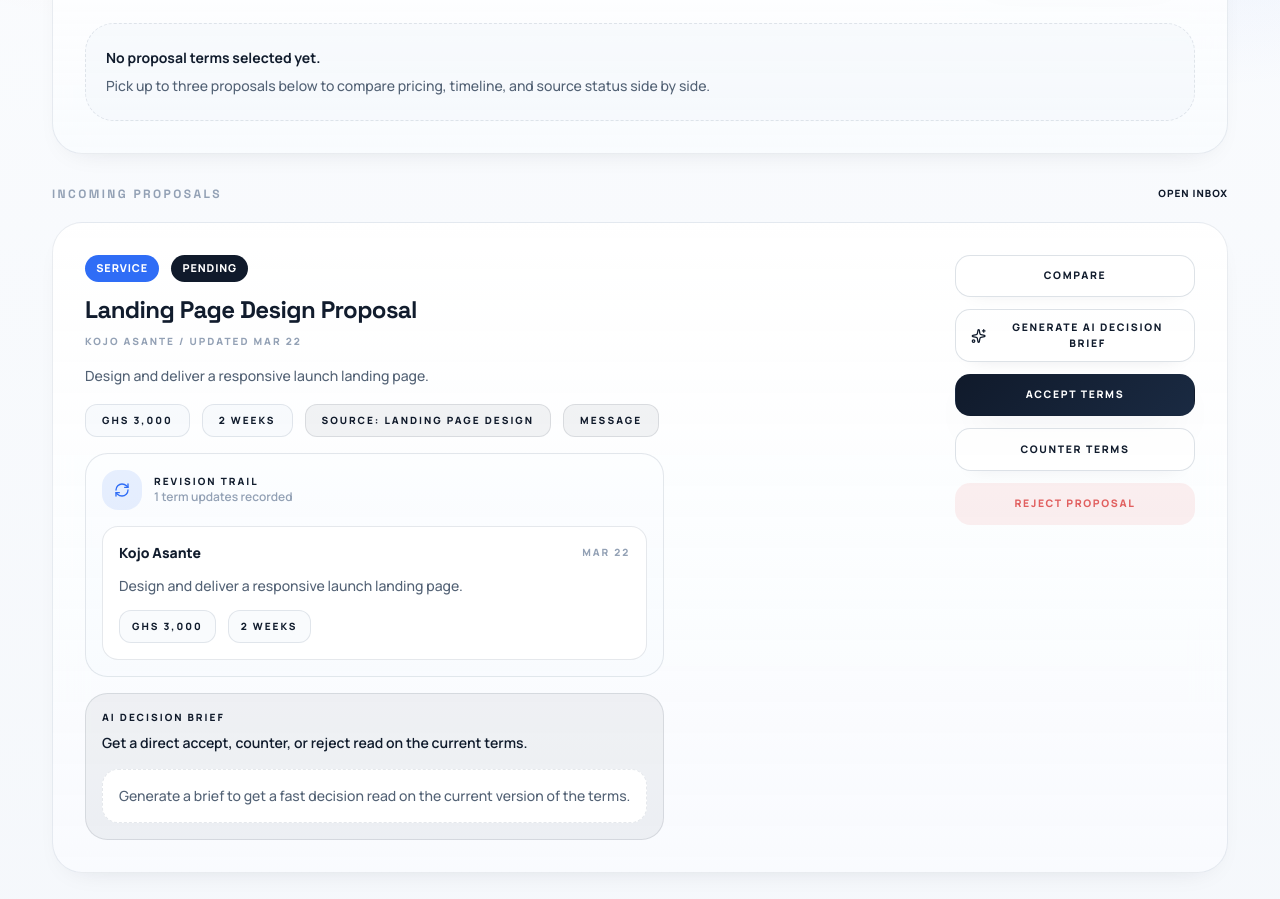
Test case: Proposals negotiation flow › submits a counter proposal and refreshes the revision trail
(page scrolled)
Expected: the heading "Landing Page Design Proposal" is shown, left=85, top=294, right=417, bottom=325
Click the button "Counter Terms": click(1075, 449) left=955, top=428, right=1195, bottom=471
(page scrolled)
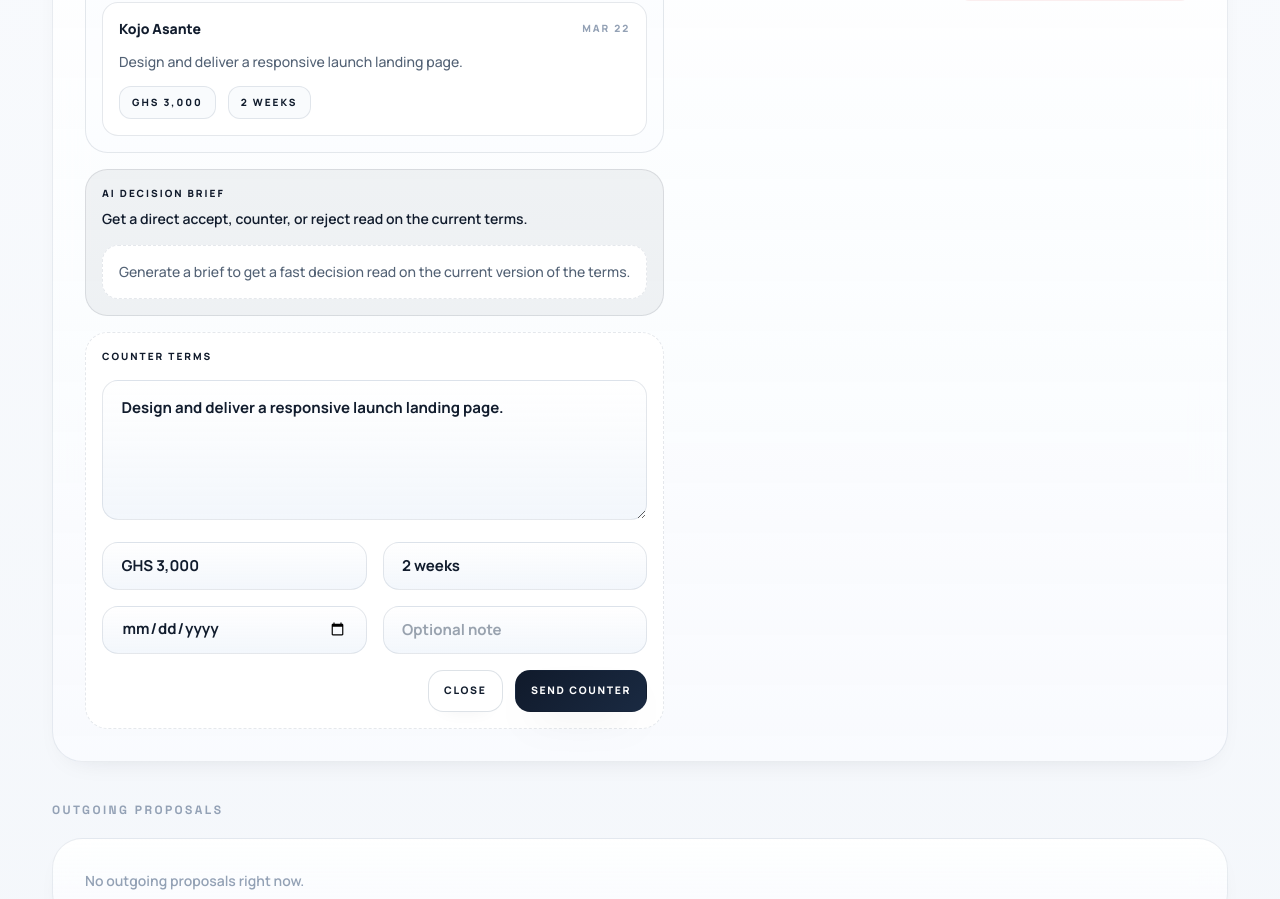
Replace the text in the text box with placeholder "Refine the scope and terms." with "Scope includes launch page, mobile states, and export-ready assets.": (375, 450) left=102, top=380, right=647, bottom=520
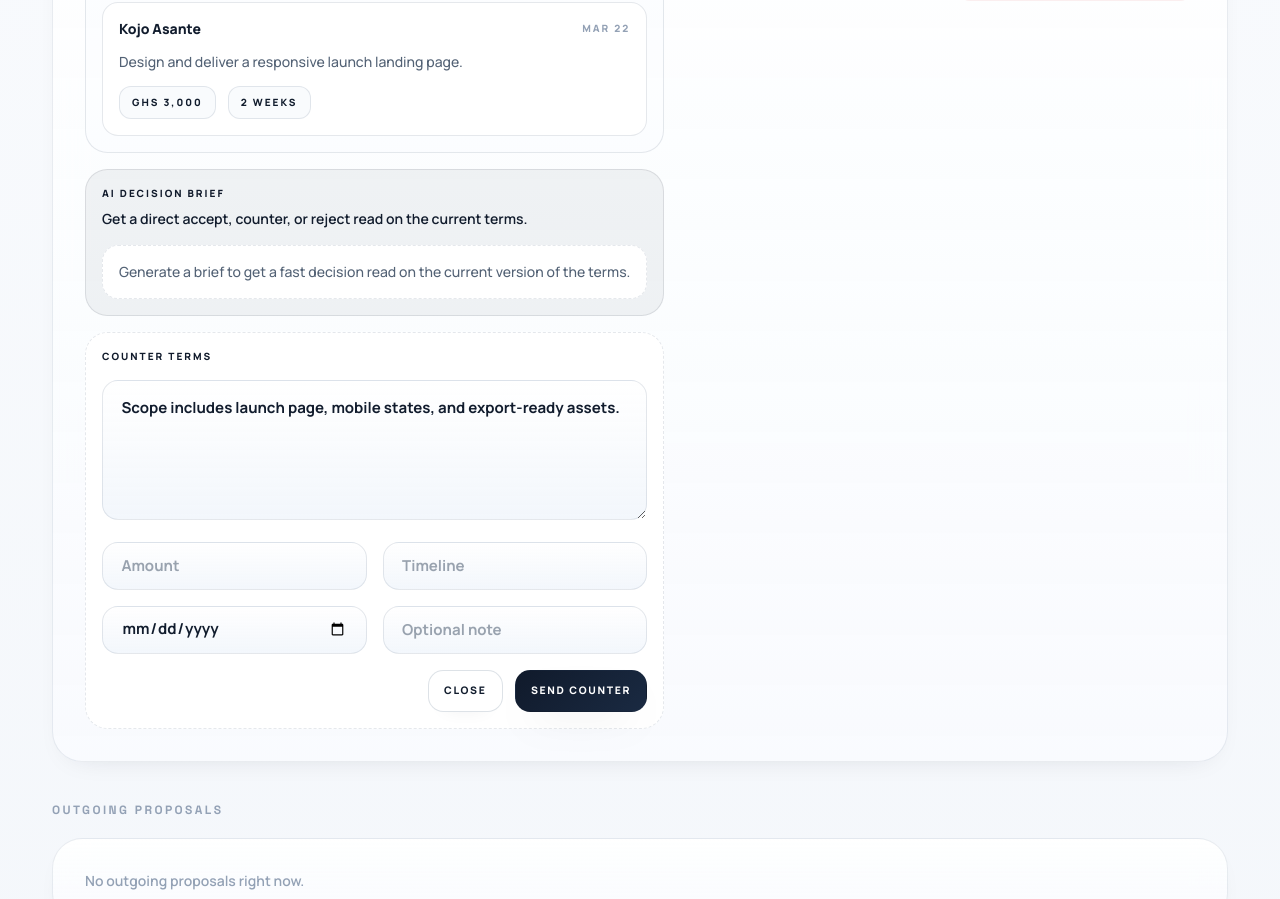
In the field with placeholder "Amount": (234, 566) left=102, top=542, right=367, bottom=590, type "GHS 2,800"
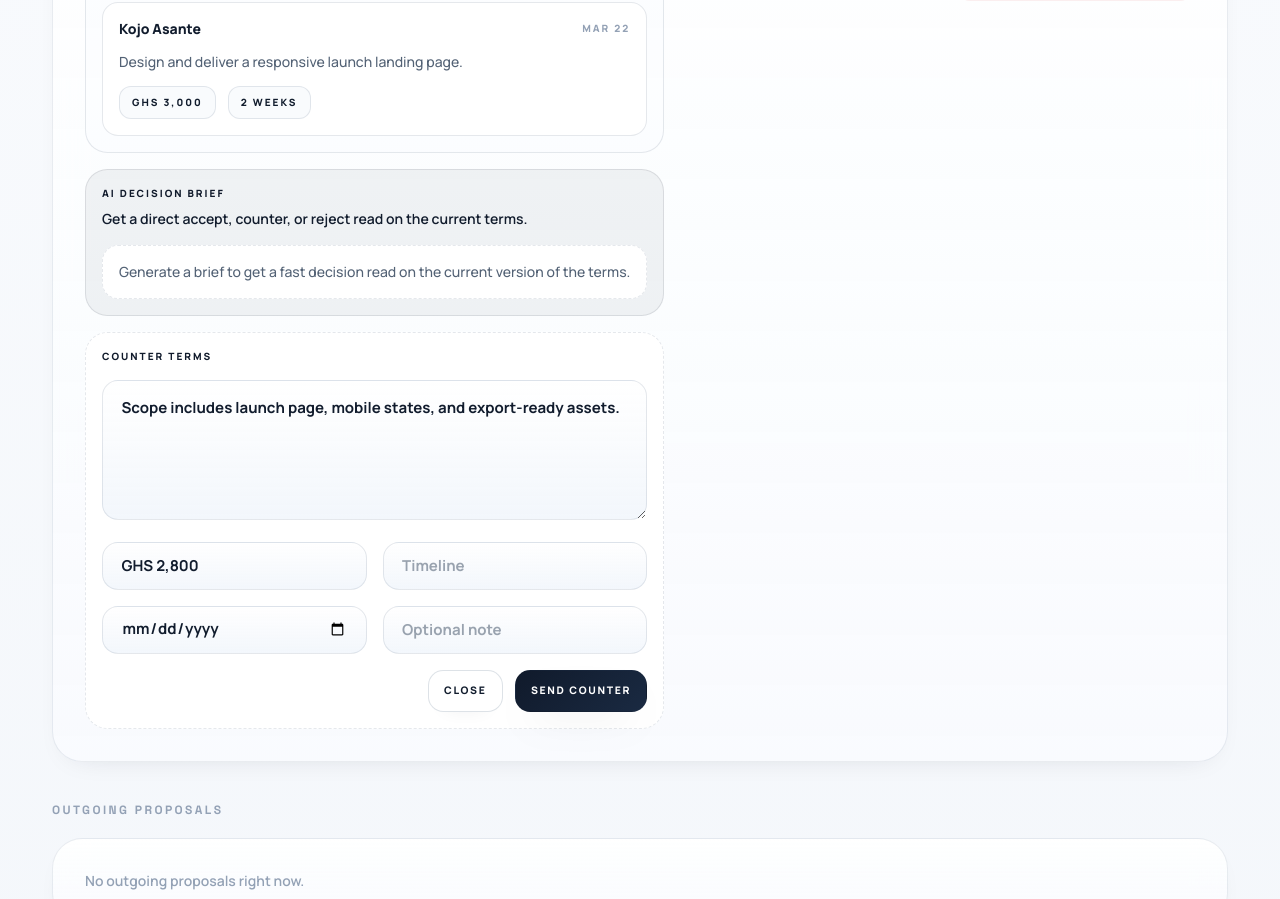
In the field with placeholder "Timeline": (515, 566) left=383, top=542, right=647, bottom=590, type "12 days"
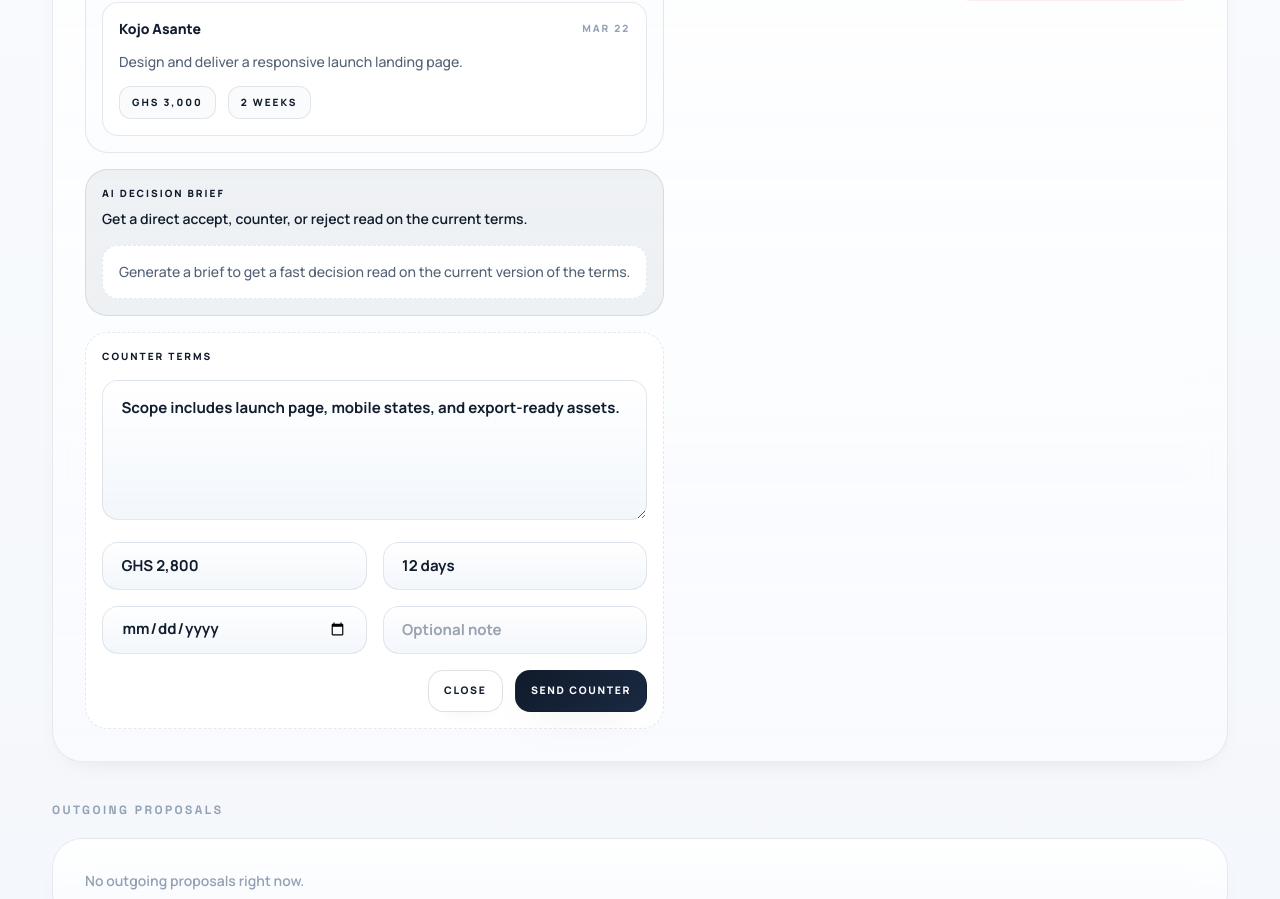
In the field with placeholder "Optional note": (515, 630) left=383, top=606, right=647, bottom=654, type "Countering with a tighter budget and faster delivery window."
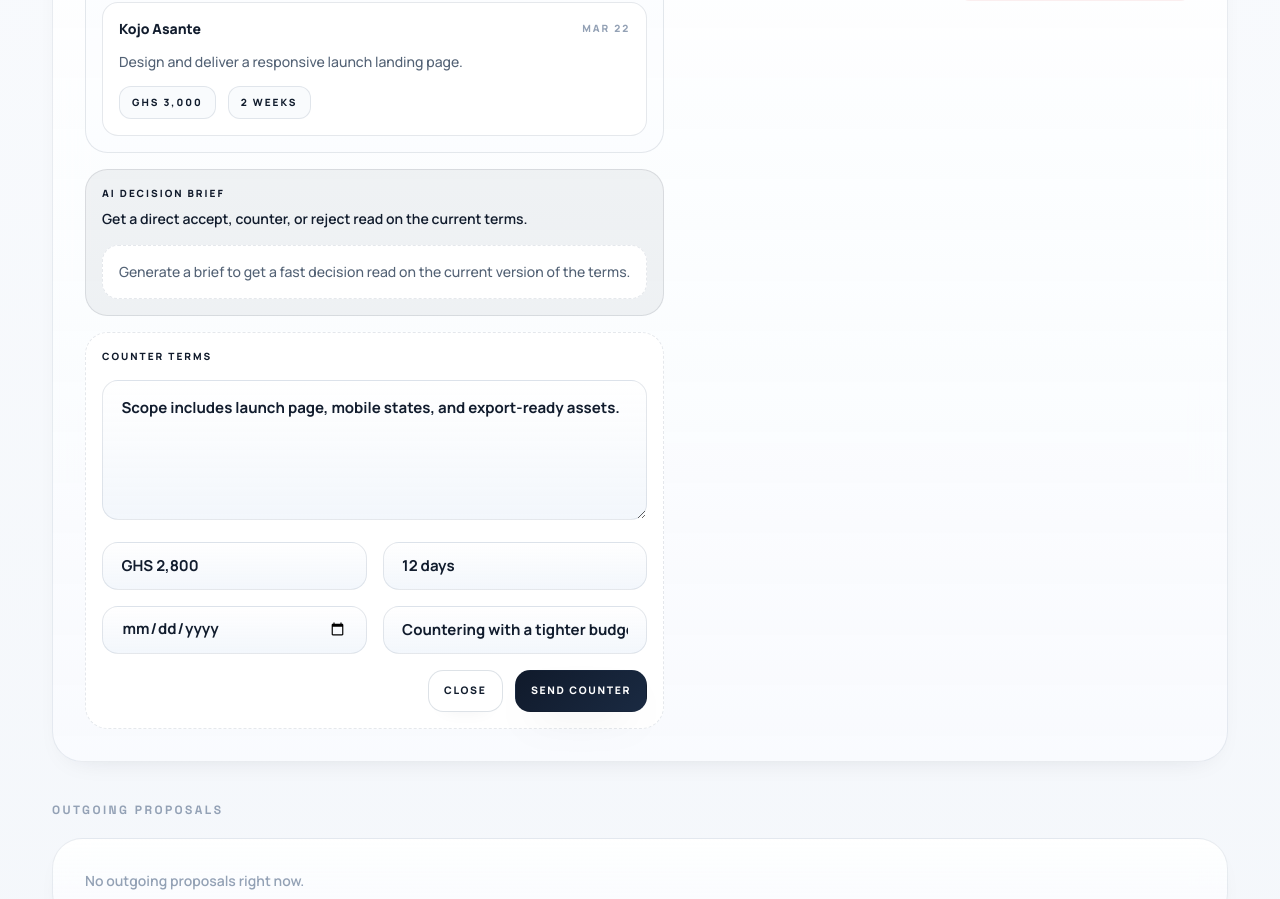
Click the button "Send Counter": click(581, 691) left=515, top=670, right=647, bottom=712
(page scrolled)
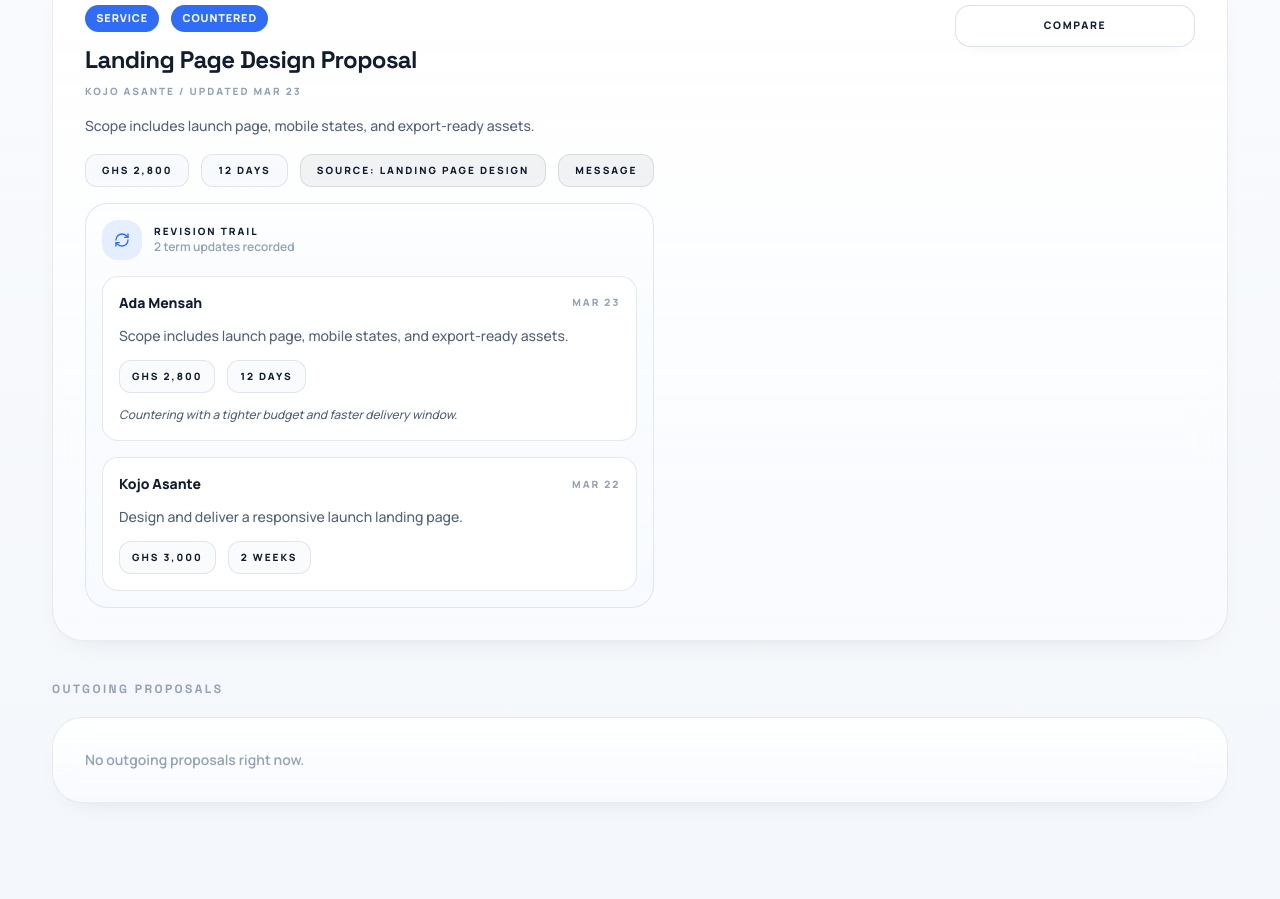
Expected: the text "2 term updates recorded" is shown, left=154, top=239, right=294, bottom=255
Expected: the text "COUNTERED" is shown, left=171, top=5, right=268, bottom=32
